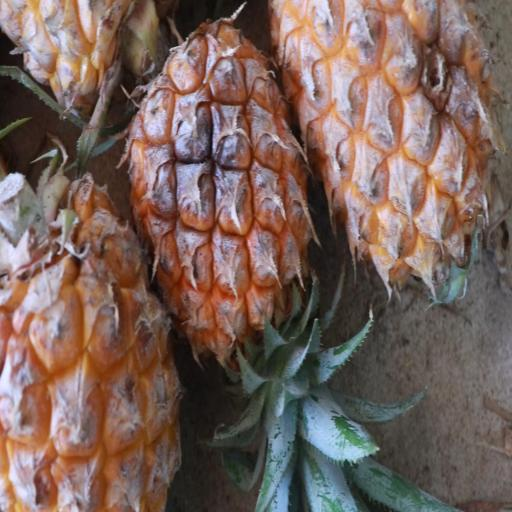Pineapple - v8 v1: (126, 6, 315, 420), (269, 0, 500, 298), (0, 170, 192, 512)
